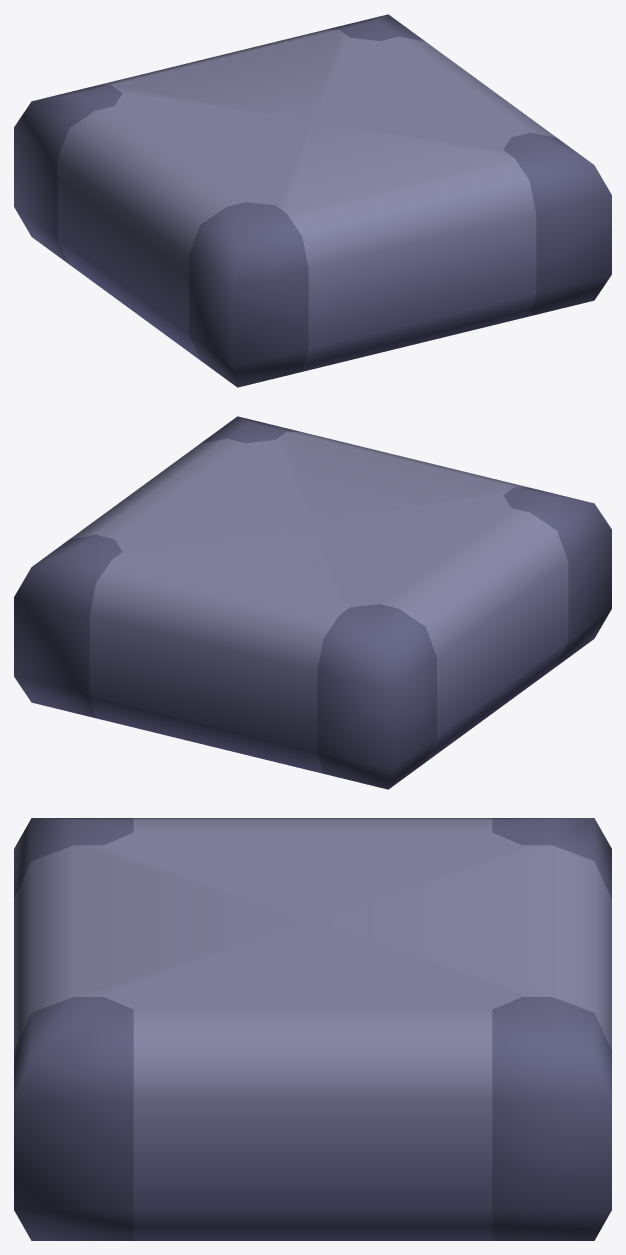
The model's file is conveyor-stripe-sides-cross.glb.
3 views of the same model, one above another, from view 1: azimuth 30°, elevation 25°; view 2: azimuth 150°, elevation 25°; view 3: azimuth 270°, elevation 25° (orthographic). The views are drawn at different scales.
Parts seen in each view (by area): view 1: conveyor-stripe-sides-cross; view 2: conveyor-stripe-sides-cross; view 3: conveyor-stripe-sides-cross.
Part boxes in pixels (<box>): conveyor-stripe-sides-cross: <box>14,14,611,387</box>; conveyor-stripe-sides-cross: <box>14,416,611,789</box>; conveyor-stripe-sides-cross: <box>14,818,611,1240</box>.
Bounding box in the file's own units: 1 × 0.4 × 1.
